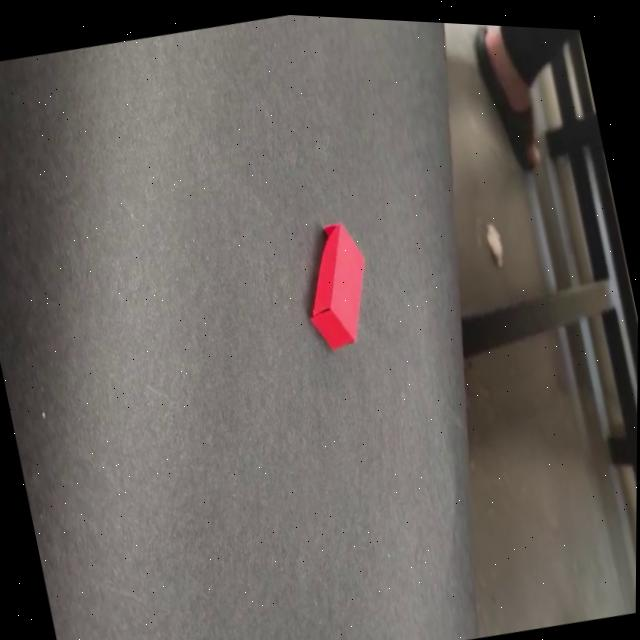red block: (289, 216, 384, 359)
